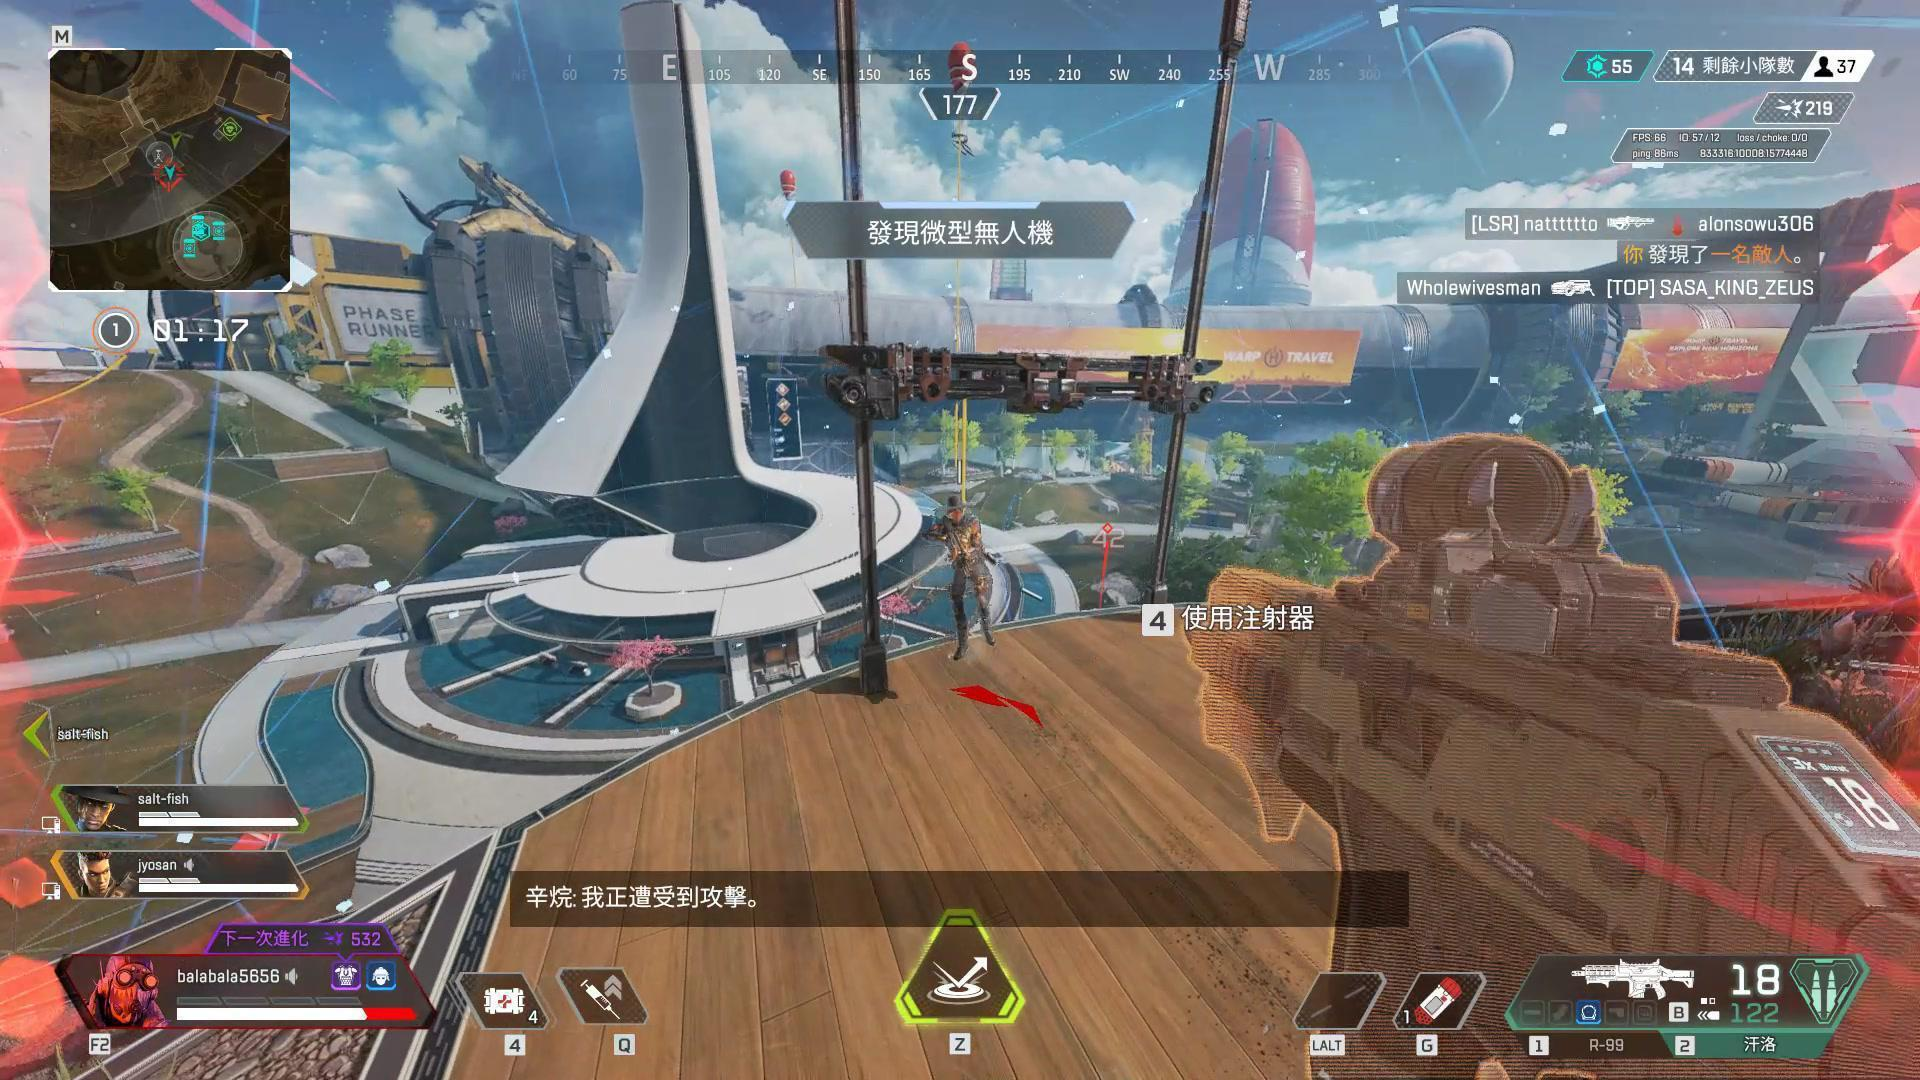avatar: (928, 493, 1002, 666)
